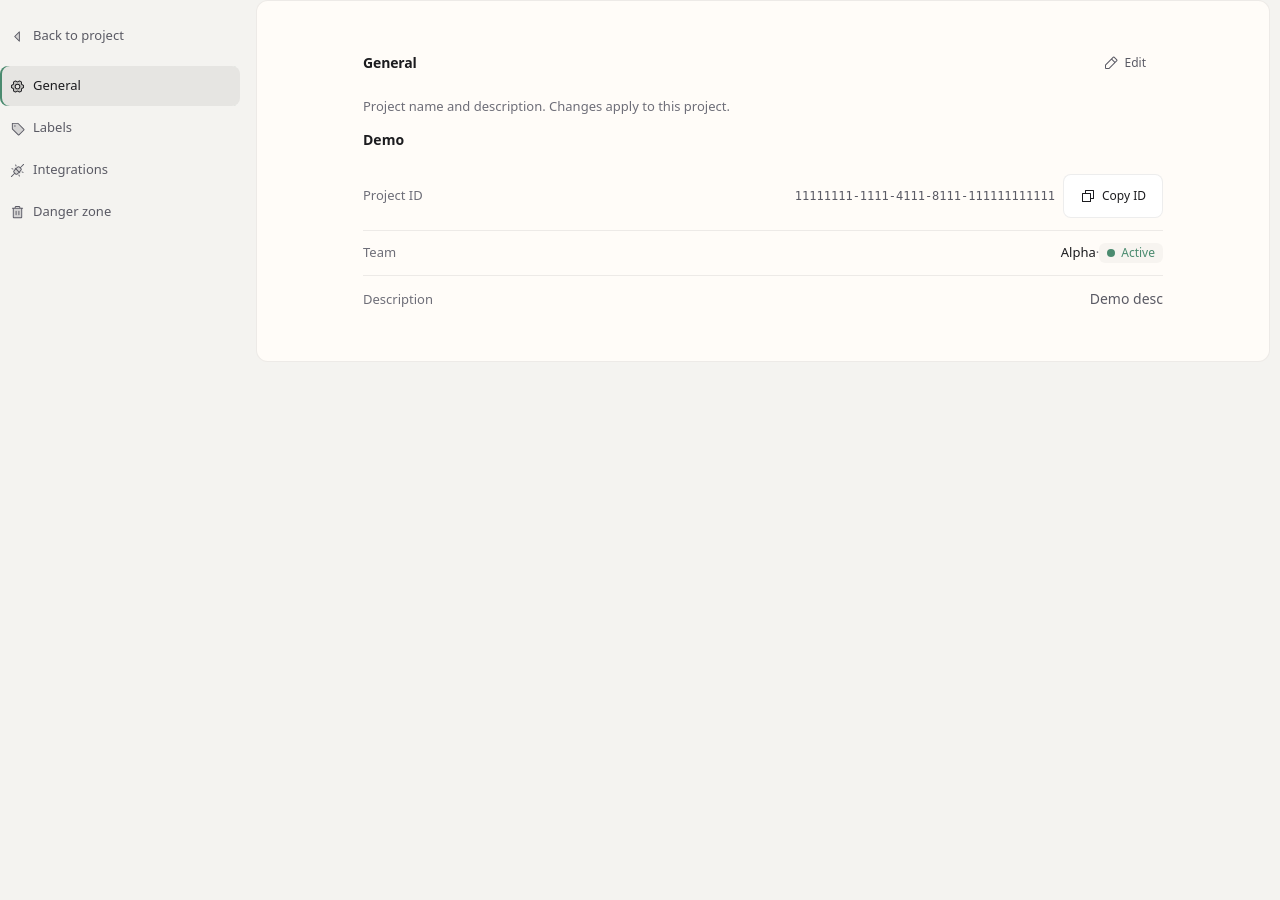
Test: ProjectSettings shell › saves name+description via update() for admins
Click the button "Edit" at (1124, 63), box [1086,41,1163,85]
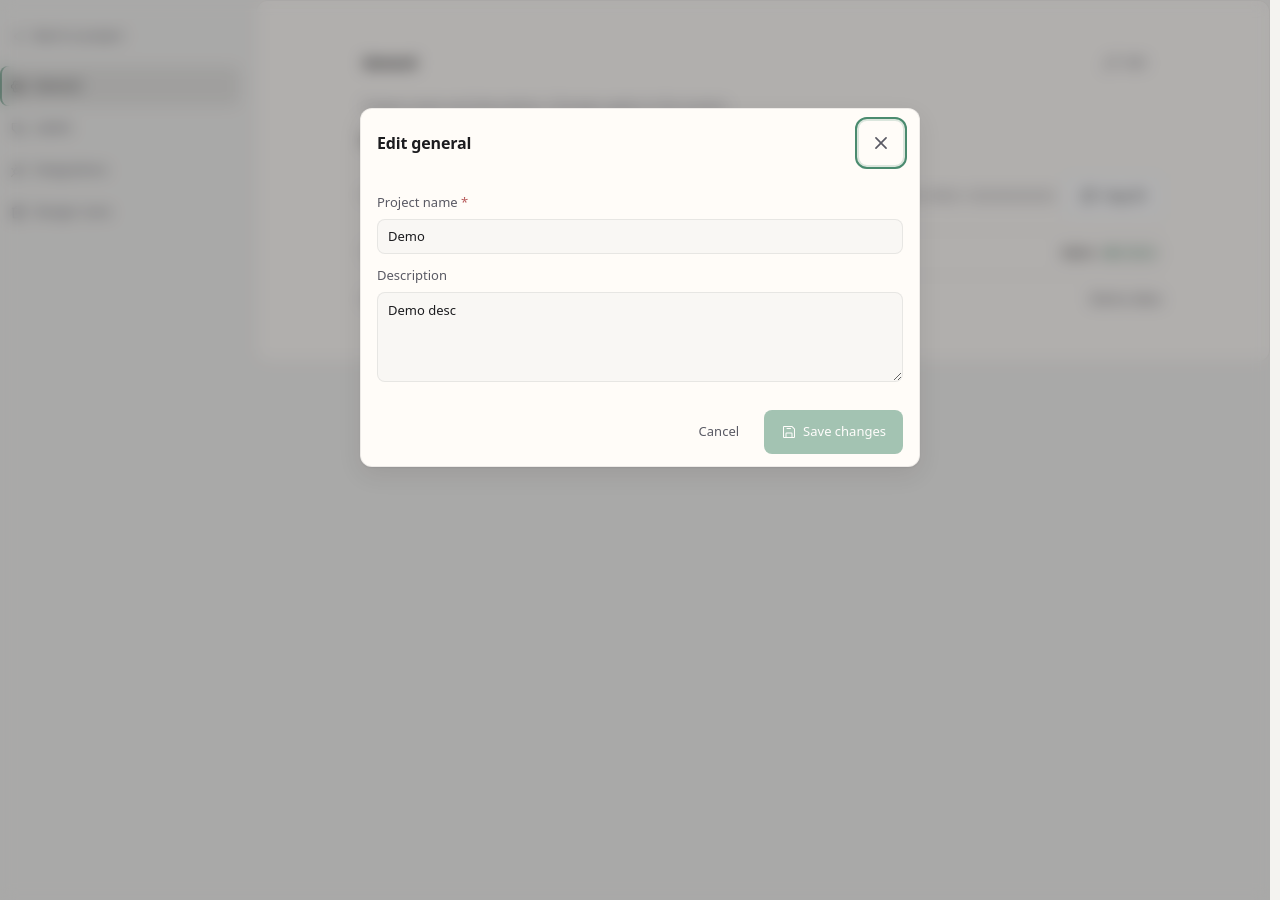
Expected: the dialog is shown, [360,108,920,466]
Replace the text in the field labelled "Project name *" with "Renamed" at (640, 236), box [377,218,903,254]
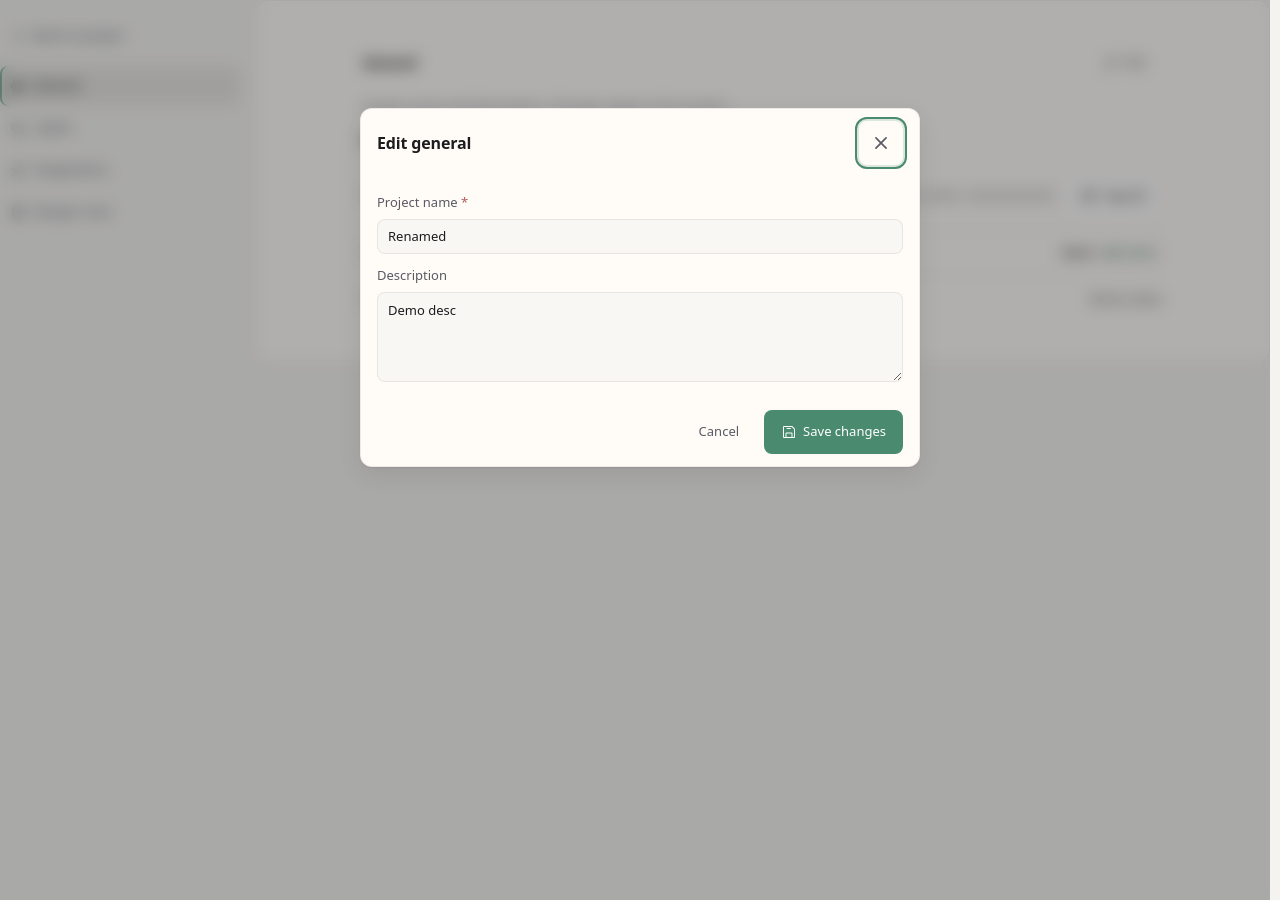
Click the button "Save changes" at (834, 432), box [764,410,903,454]
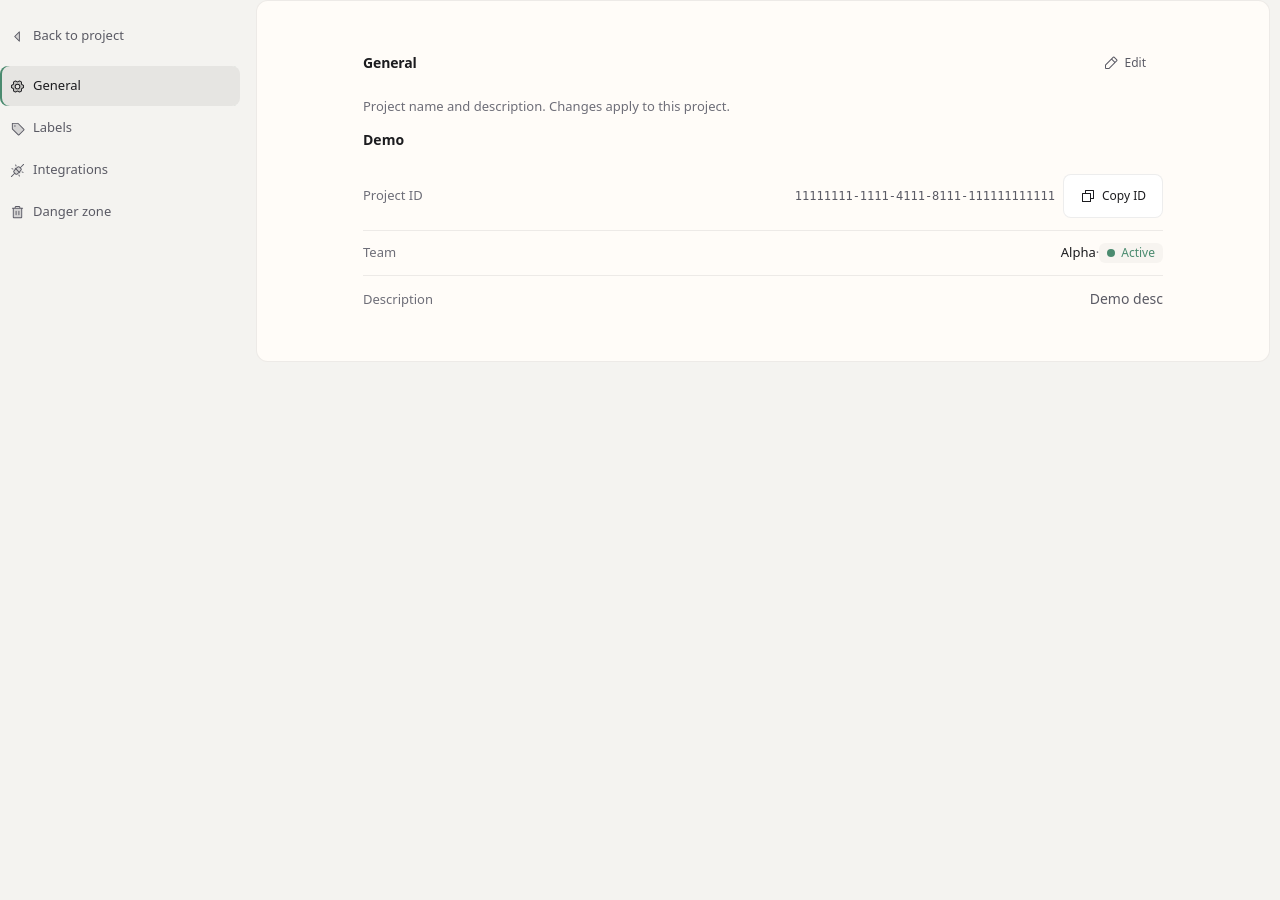
Expected: the dialog is gone
